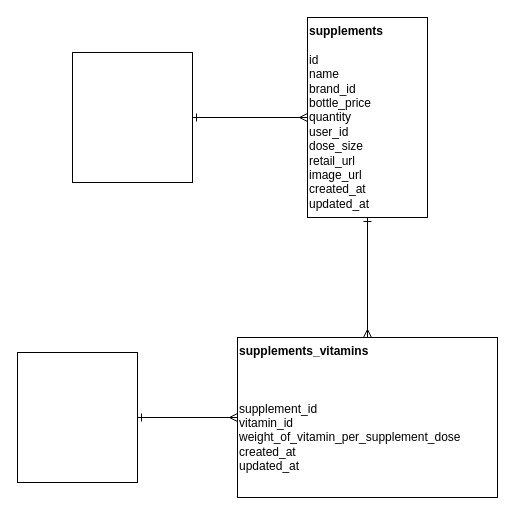
This 515x515 diagram has some shape labels left out. Each missing label, with the box of its shape:
brands id name logo_url about_page_url created_at updated_at: (72, 52, 192, 182)
vitamins id name created_at updated_at: (16, 352, 138, 482)
